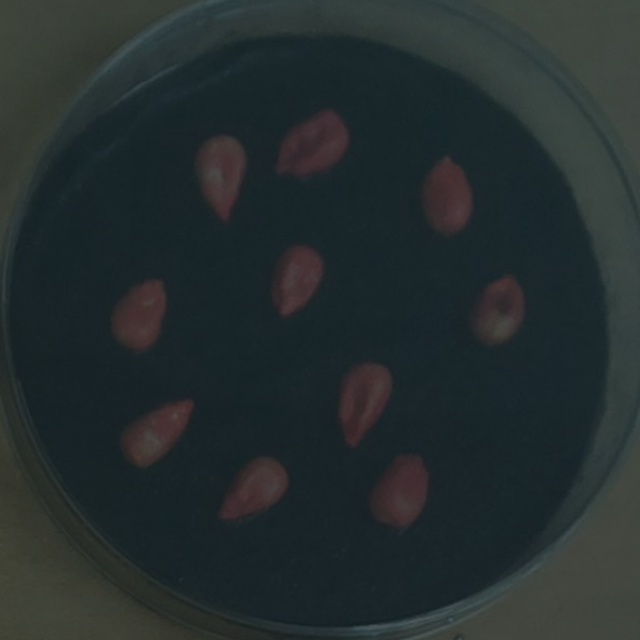Zea mays: (264, 100, 356, 184), (328, 353, 401, 456), (111, 392, 203, 473), (208, 446, 296, 529), (184, 125, 253, 229), (360, 444, 434, 534), (414, 145, 481, 241), (261, 235, 331, 325), (101, 271, 174, 357), (460, 265, 533, 351)
